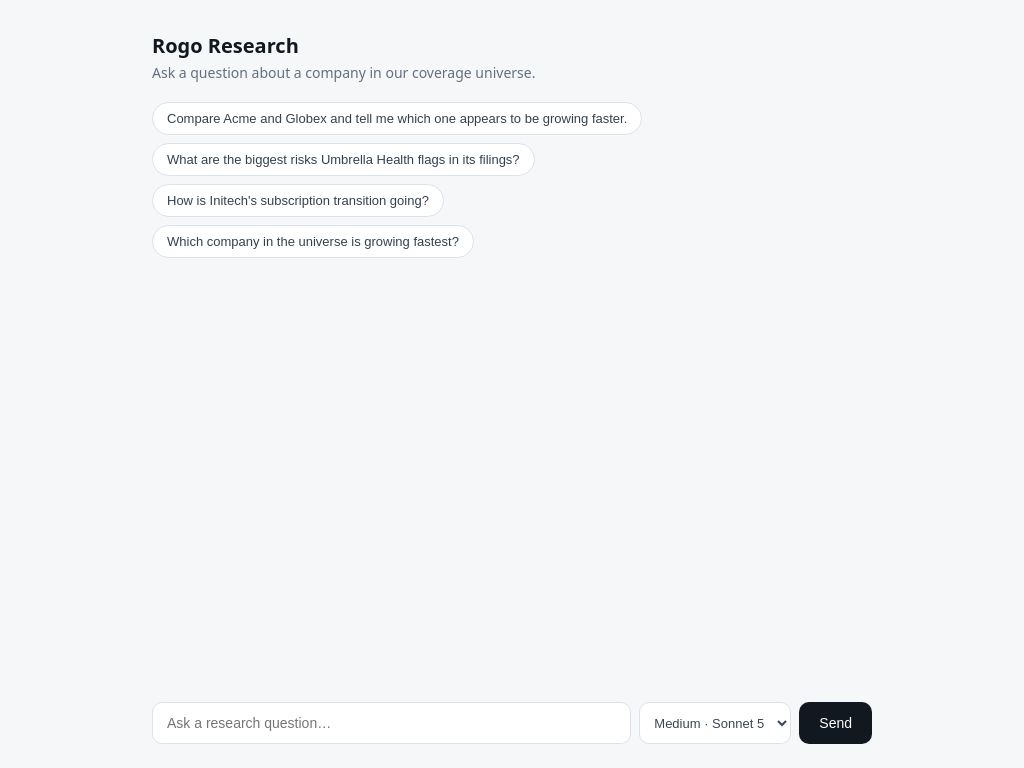
Test: App › sends the question and shows the answer
Type "Acme growth?" into the field with placeholder "Ask a research question…". click: (392, 723)
box: 152,702 -> 631,744
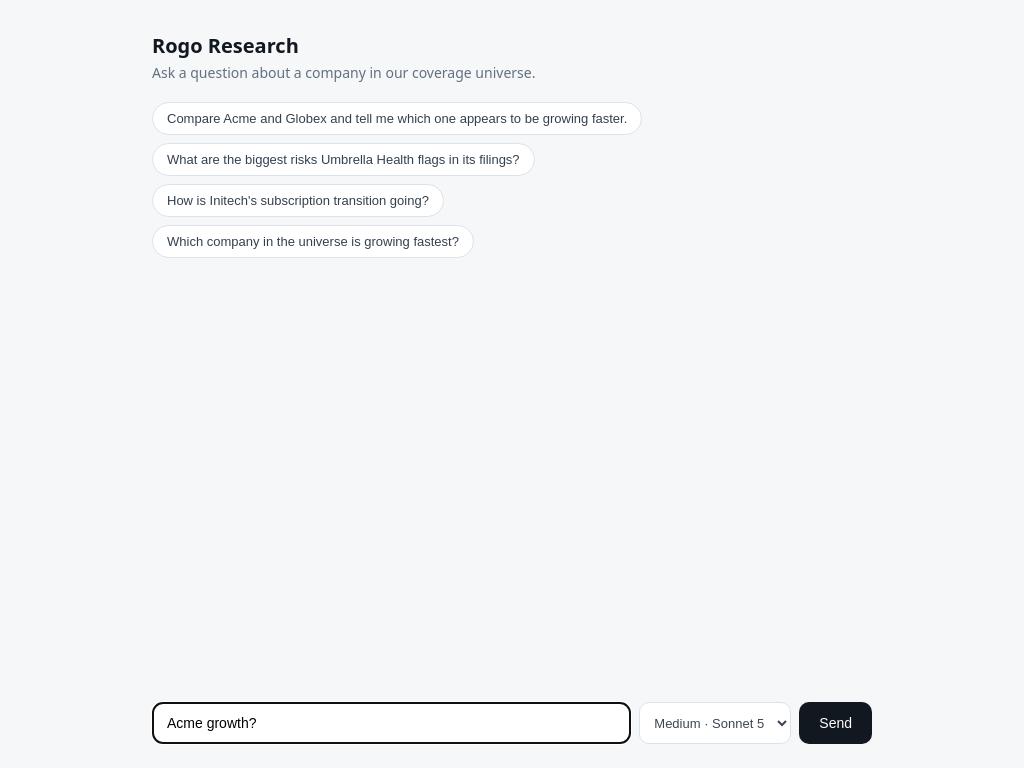
Click the button "Send". click: (836, 723)
box: 799,702 -> 872,744
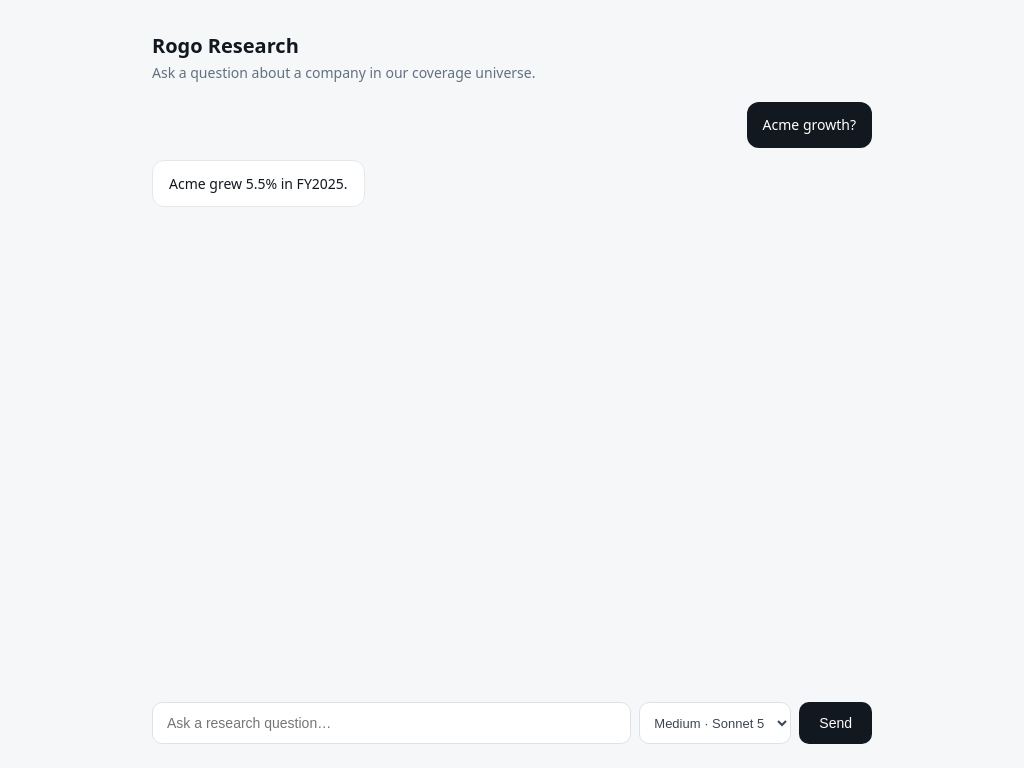
Now the text "Acme grew 5.5% in FY2025." is shown, box 169,173 -> 348,194
Now the text "Acme growth?" is shown, box 747,102 -> 872,148
